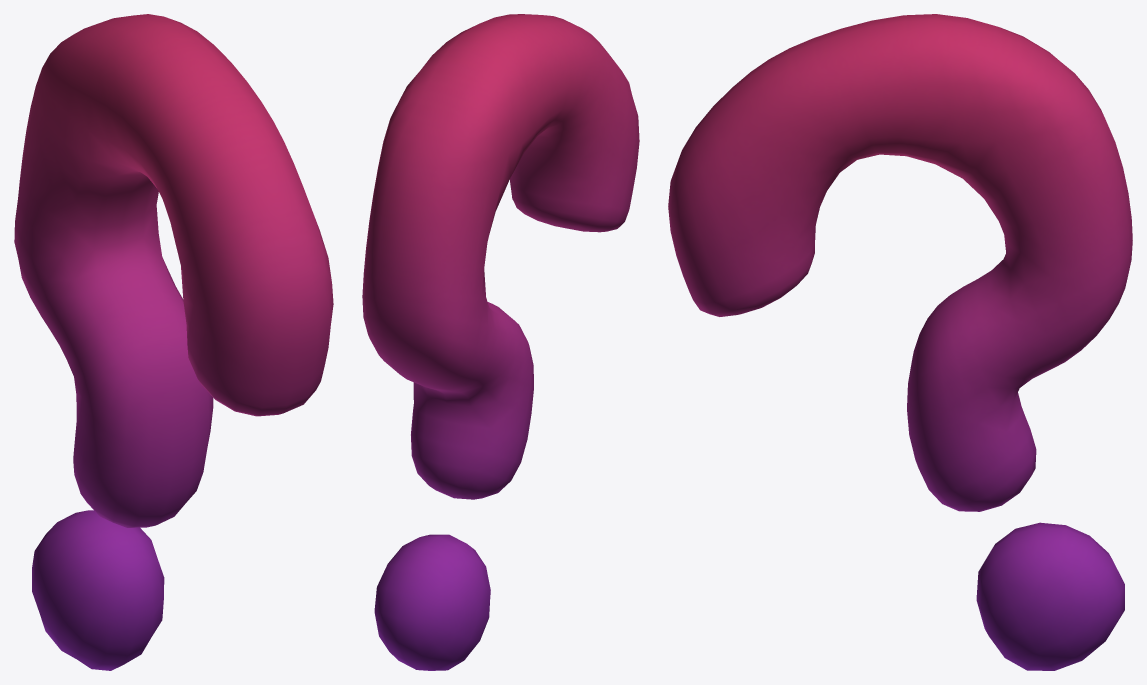
Rendered from QuestionMarkTripleOne.dae.
3 renders of one model, left to right at view 1: azimuth 30°, elevation 25°; view 2: azimuth 150°, elevation 25°; view 3: azimuth 270°, elevation 25°, orthographic. The views are drawn at different scales.
Parts seen in each view (by area): view 1: Cube_000; view 2: Cube_000; view 3: Cube_000.
Boxes of the visible parts, bbox=[...] form: Cube_000: bbox=[14, 14, 333, 670]; Cube_000: bbox=[362, 14, 639, 670]; Cube_000: bbox=[668, 14, 1132, 670].
Size of the model in its own units: 0.3372 by 1.21 by 1.86.
1 material, 1 textured.
